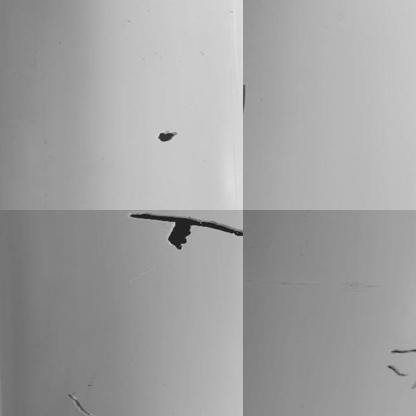fengxi: (125, 211, 240, 231), (69, 389, 91, 413), (388, 343, 416, 358), (384, 364, 405, 379)
kongdong: (165, 221, 192, 254), (157, 129, 173, 142)
